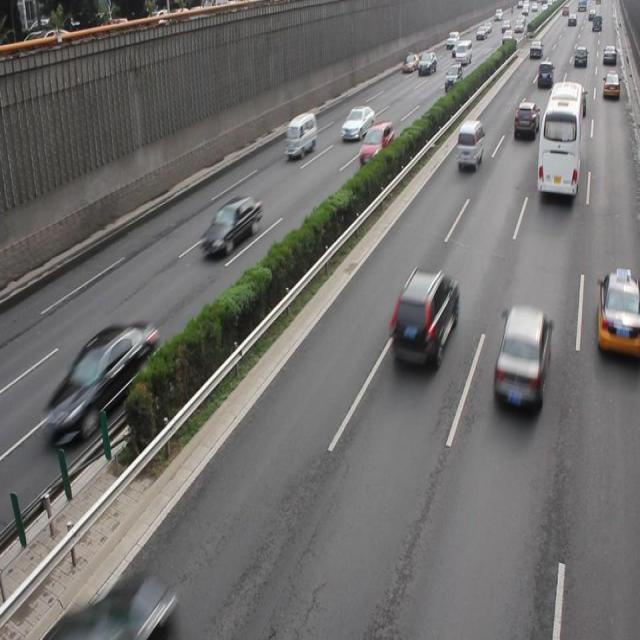car: (43, 320, 159, 444), (389, 266, 457, 372), (491, 305, 550, 411), (596, 270, 640, 359), (200, 195, 261, 258), (358, 120, 393, 166), (339, 103, 373, 140), (512, 100, 537, 141)
truck: (285, 112, 316, 159), (456, 120, 482, 169)
van: (536, 80, 582, 197)
